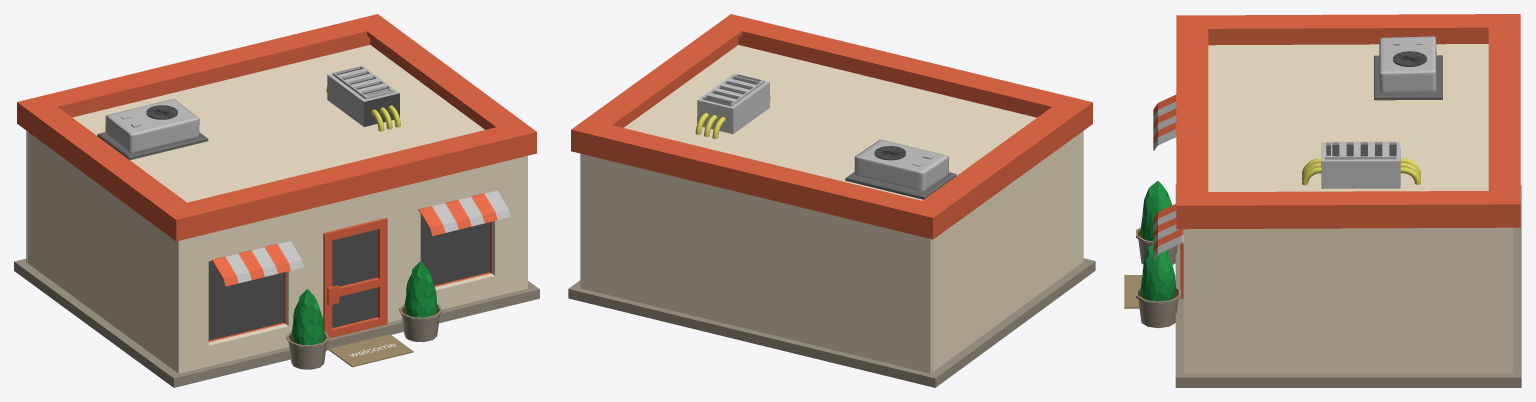
The model's file is shop.glb.
3 views of the same model, side by side, from view 1: azimuth 30°, elevation 25°; view 2: azimuth 150°, elevation 25°; view 3: azimuth 270°, elevation 25° (orthographic). The views are drawn at different scales.
Visible parts, largest first — view 1: Box001, Box001_06 - Default_0.001, Box002, Box004, Box013, Box009, Box008, Box010, GeoSphere001, GeoSphere002, Cylinder002, Cylinder003 (+1 smaller); view 2: Box001, Box001_06 - Default_0.001, Box002, Box004, Box013, Box003; view 3: Box001, Box001_06 - Default_0.001, Box002, Box013, Box004, GeoSphere001, Box008, Cylinder002, Box003, Box009, GeoSphere002, Box010 (+2 smaller).
Part boxes in pixels (x1,y1,x2,y2): Box001: (17,14,536,373); Box001_06 - Default_0.001: (72,45,484,202); Box002: (14,258,539,387); Box004: (105,99,199,152); Box013: (327,66,399,126); Box009: (211,240,303,286); Box008: (418,190,510,235); Box010: (328,334,413,367); GeoSphere001: (404,261,437,317); GeoSphere002: (291,289,324,345); Cylinder002: (399,303,442,342); Cylinder003: (286,331,329,369); Box001: (571,14,1092,373); Box001_06 - Default_0.001: (624,45,1036,200); Box002: (568,258,1095,387); Box004: (854,139,948,191); Box013: (697,73,769,134); Box003: (845,172,956,199); Box001: (1176,14,1520,373); Box001_06 - Default_0.001: (1208,44,1488,191); Box002: (1175,184,1521,387); Box013: (1321,141,1400,188); Box004: (1379,36,1436,92); GeoSphere001: (1140,244,1175,301); Box008: (1153,204,1183,259); Cylinder002: (1136,287,1180,328); Box003: (1374,55,1442,100); Box009: (1153,95,1176,150); GeoSphere002: (1140,181,1171,241); Box010: (1124,275,1175,308).
Bounding box in the file's own units: 114 × 52.56 × 98.99.
